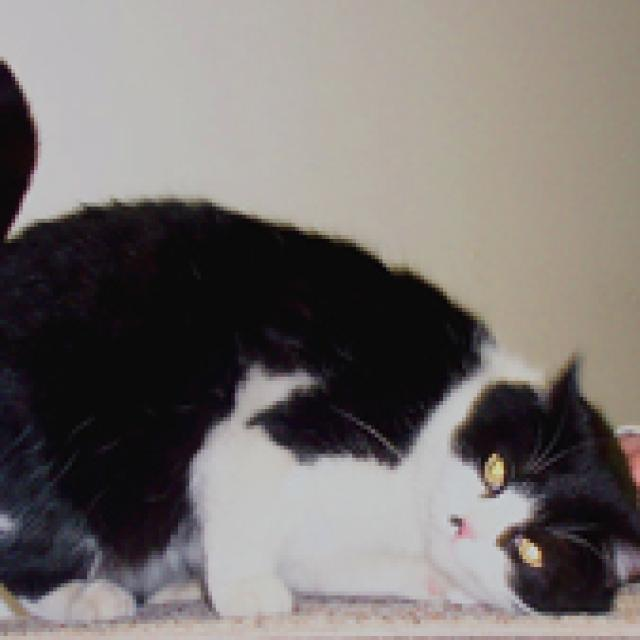Cats: (0, 49, 636, 624)
